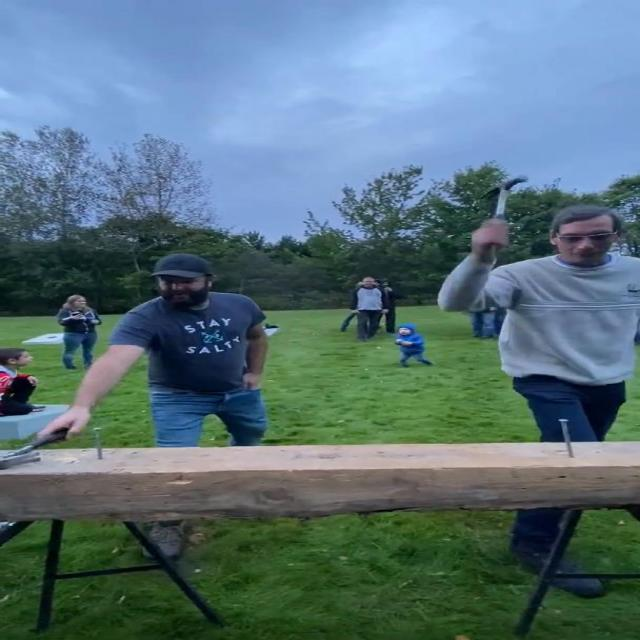hammer: (479, 175, 529, 248), (0, 426, 68, 471)
